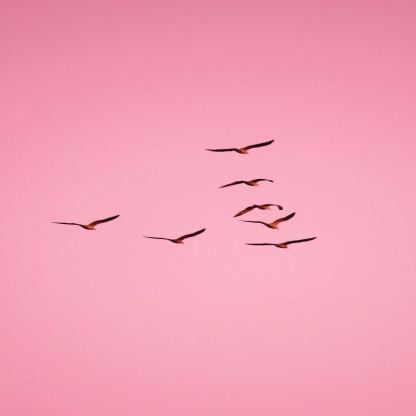bird: (144, 228, 206, 245), (206, 139, 274, 154), (52, 215, 120, 230), (239, 212, 295, 229), (246, 236, 317, 248), (233, 203, 283, 217), (220, 178, 274, 188)
